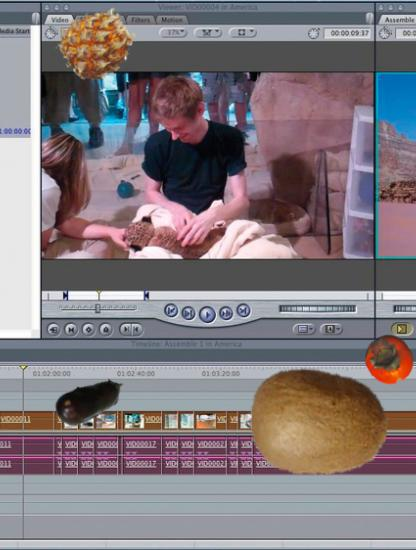Eggplant: (53, 363, 129, 439)
Kaki: (364, 334, 415, 385)
Kiwi: (247, 353, 388, 494)
Pineapple: (59, 6, 135, 82)
